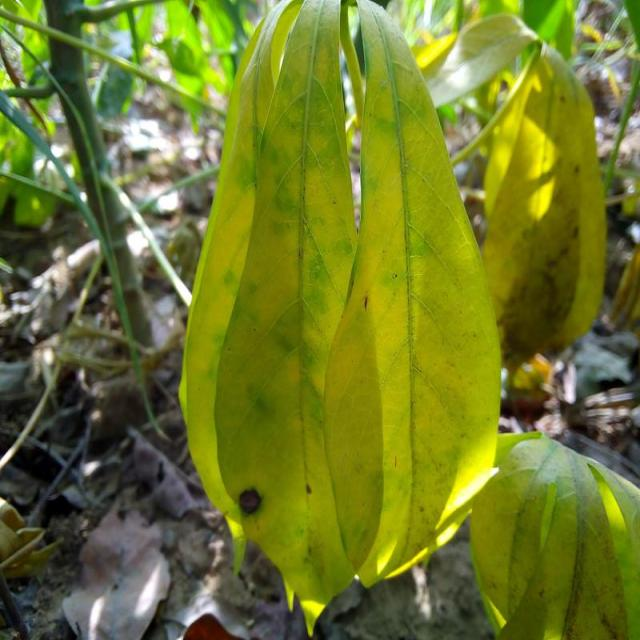cassava leaf: (179, 0, 362, 635), (323, 0, 504, 589), (480, 39, 609, 374), (470, 431, 640, 638)
